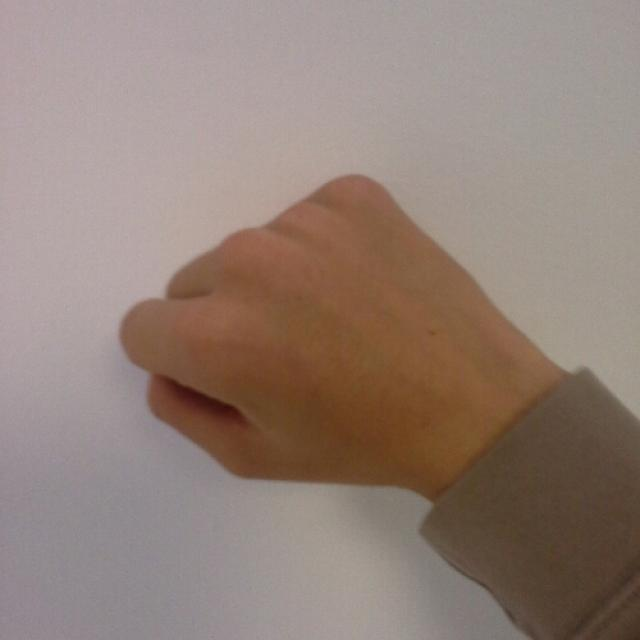rock: (122, 170, 466, 488)
